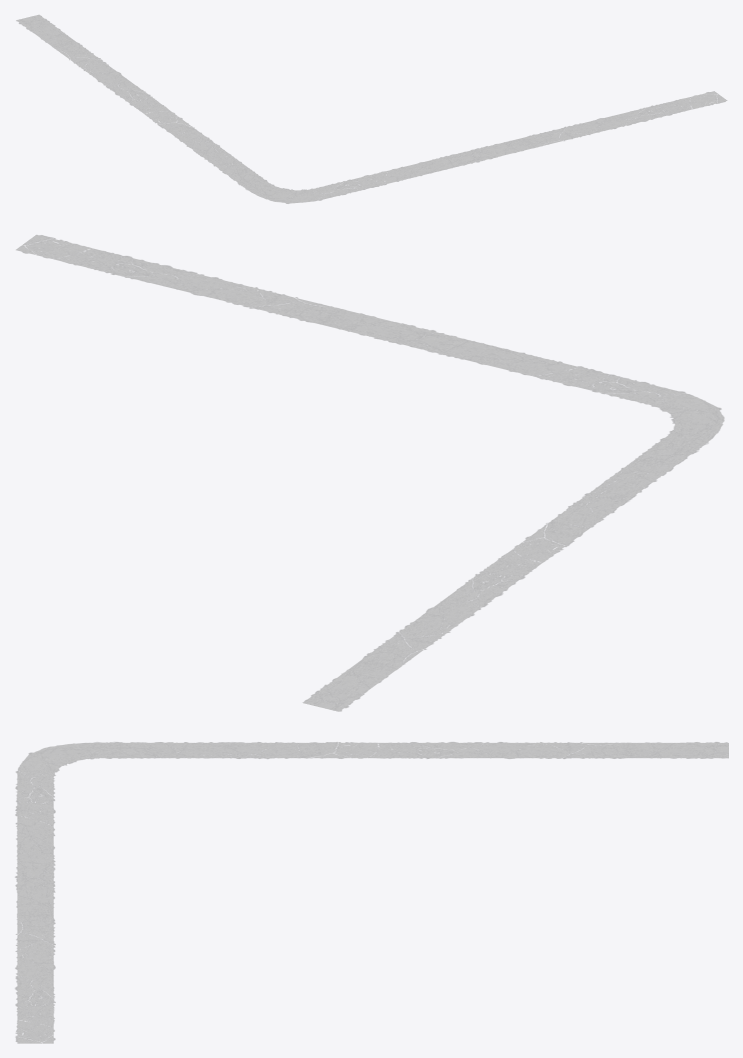
The model's file is Sidewalk_Corner_Flat_3m_Stripe.glb.
3 views of the same model, one above another, from view 1: azimuth 30°, elevation 25°; view 2: azimuth 150°, elevation 25°; view 3: azimuth 270°, elevation 25° (orthographic). The views are drawn at different scales.
Parts seen in each view (by area): view 1: Sidewalk_Corner_Flat_3m_Stripe; view 2: Sidewalk_Corner_Flat_3m_Stripe; view 3: Sidewalk_Corner_Flat_3m_Stripe.
Part boxes in pixels (bbox=[...]): Sidewalk_Corner_Flat_3m_Stripe: bbox=[16, 14, 727, 203]; Sidewalk_Corner_Flat_3m_Stripe: bbox=[16, 235, 724, 711]; Sidewalk_Corner_Flat_3m_Stripe: bbox=[15, 742, 728, 1043].
Size of the model in its own units: 3.4 by 0 by 3.4.
1 material, 1 textured.
